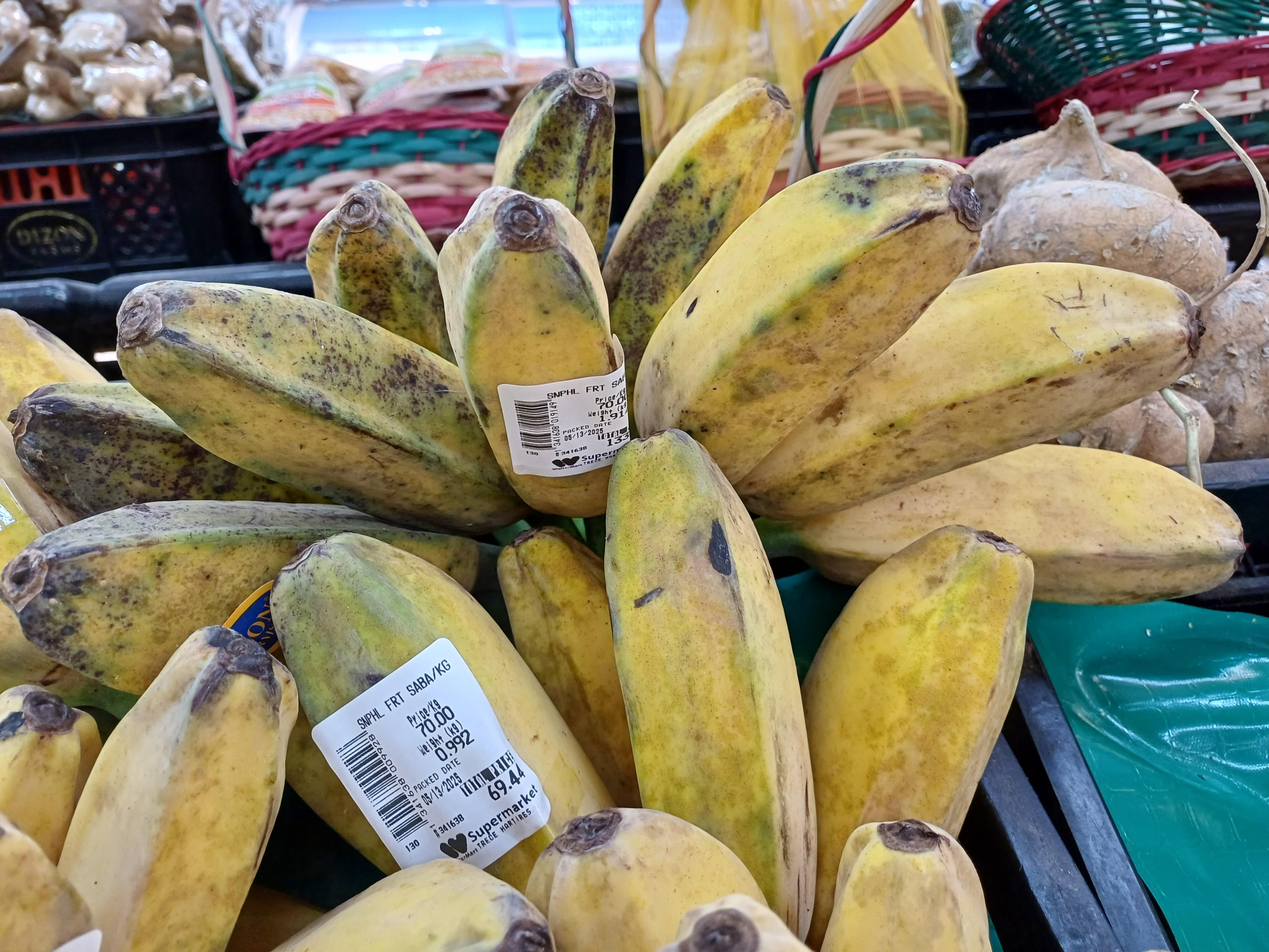ripe: (272, 430, 1032, 948), (0, 622, 300, 952), (263, 803, 825, 952), (825, 820, 999, 952)
underripe: (0, 68, 1243, 693)
